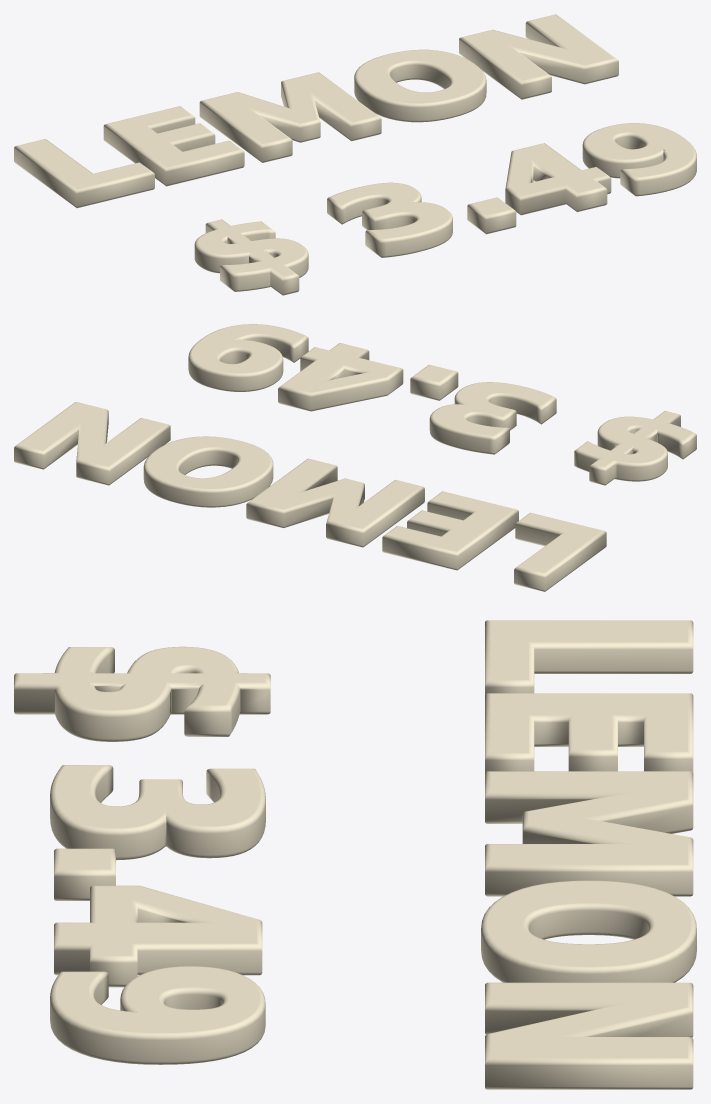
Rendered from SM_EG_Produce_price_cc796773f8.fbx.
The picture shows the model from 3 angles, top to bottom: view 1: azimuth 30°, elevation 25°; view 2: azimuth 150°, elevation 25°; view 3: azimuth 270°, elevation 25°; orthographic projection. The views are drawn at different scales.
Parts seen in each view (by area): view 1: SM_EG_Produce_price_cc796773f8; view 2: SM_EG_Produce_price_cc796773f8; view 3: SM_EG_Produce_price_cc796773f8.
Part boxes in pixels (bbox=[...]): SM_EG_Produce_price_cc796773f8: bbox=[14, 14, 696, 295]; SM_EG_Produce_price_cc796773f8: bbox=[14, 324, 696, 591]; SM_EG_Produce_price_cc796773f8: bbox=[14, 620, 696, 1089].
Bounding box in the file's own units: 13.35 × 8.72 × 0.44.
